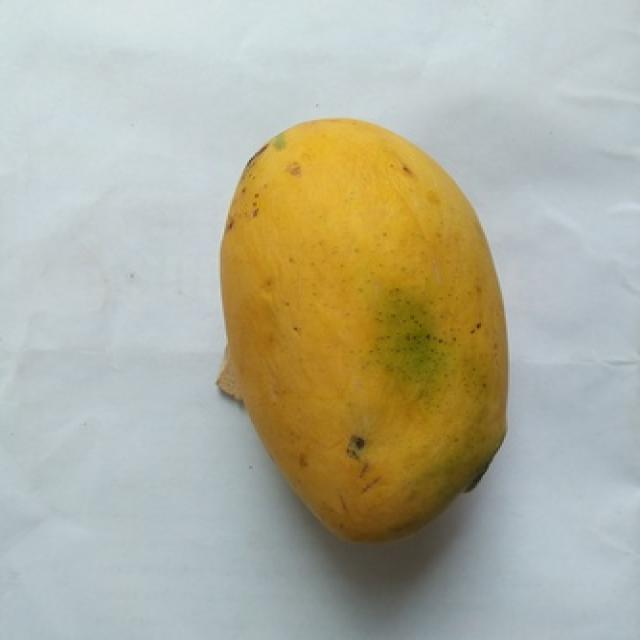Mango: (218, 118, 504, 541)
